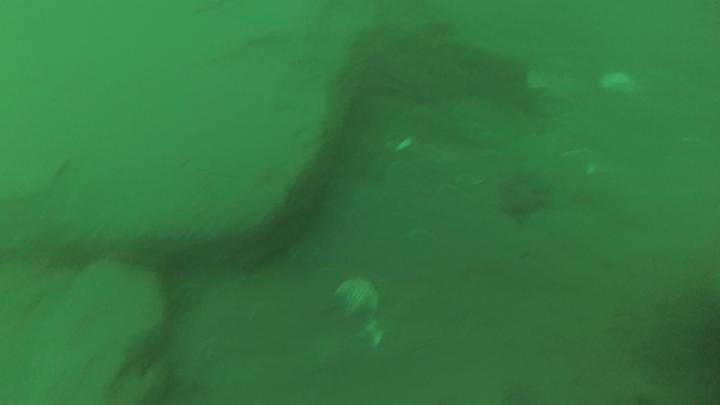scallop: (336, 275, 380, 329)
starfish: (495, 172, 558, 229)
